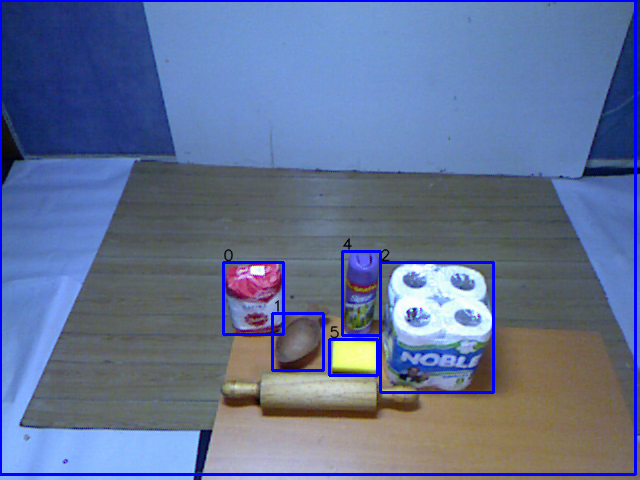aerosol: (340, 248, 383, 343)
confort: (376, 257, 495, 398)
esponja: (324, 332, 384, 380)
harina: (218, 255, 295, 341)
pescado: (269, 300, 333, 368)
uslero: (218, 366, 423, 425)
